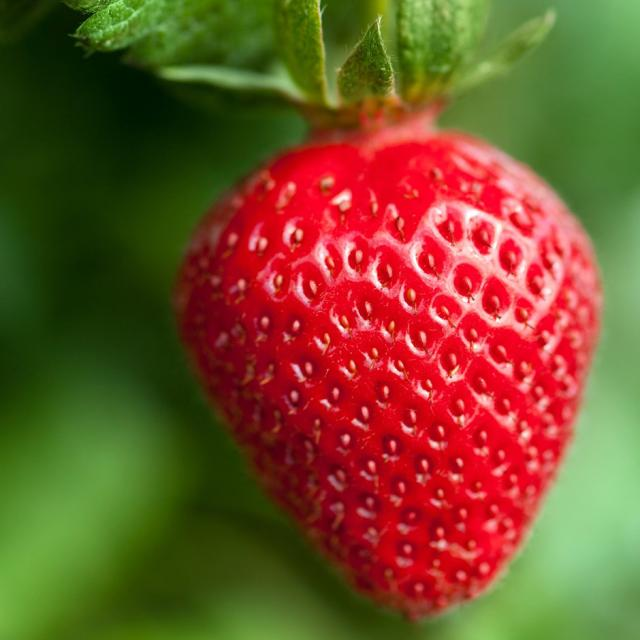strawberry: (0, 0, 615, 591)
